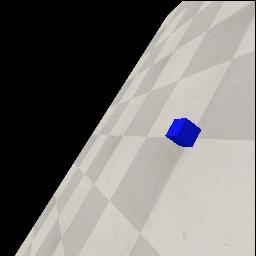box: (165, 118, 201, 147)
